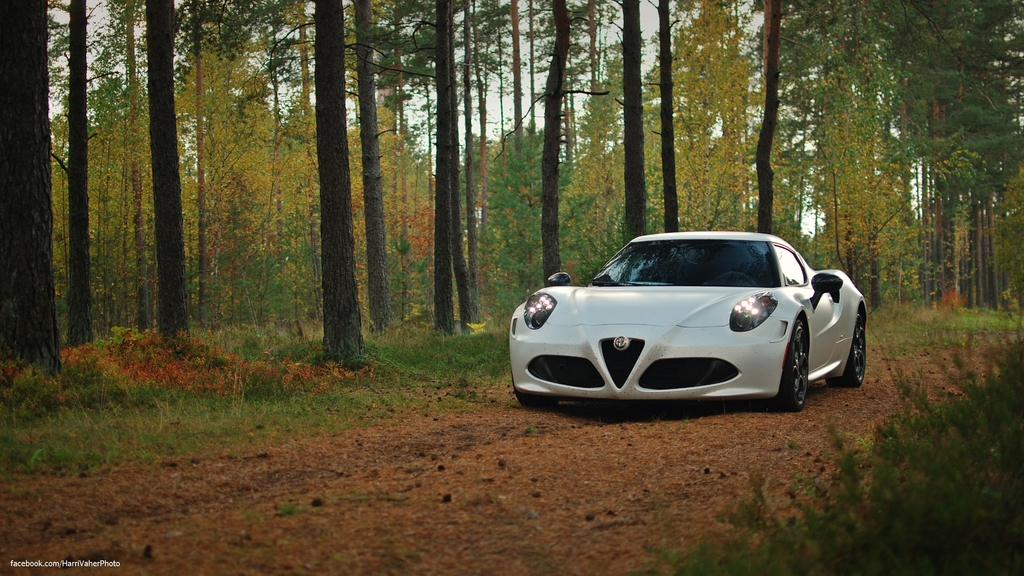Car: (506, 228, 871, 412)
